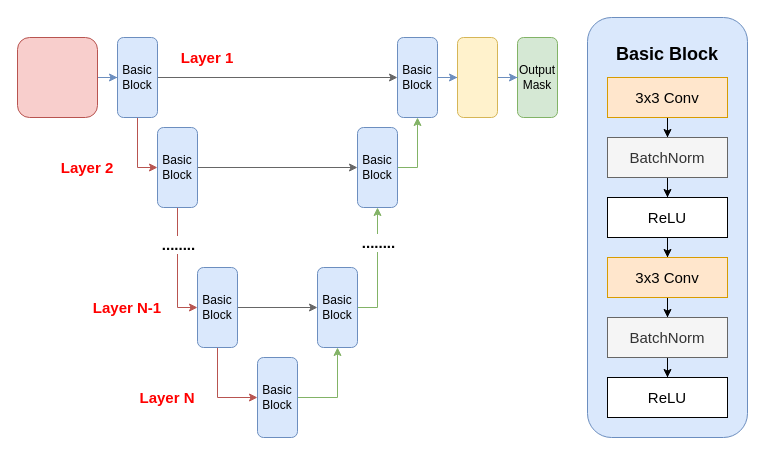
This 765x455 diagram has some shape labels left out. Each missing label, with the centre of its shape:
Input Image: point 57,77
Output Layer: point 477,77
